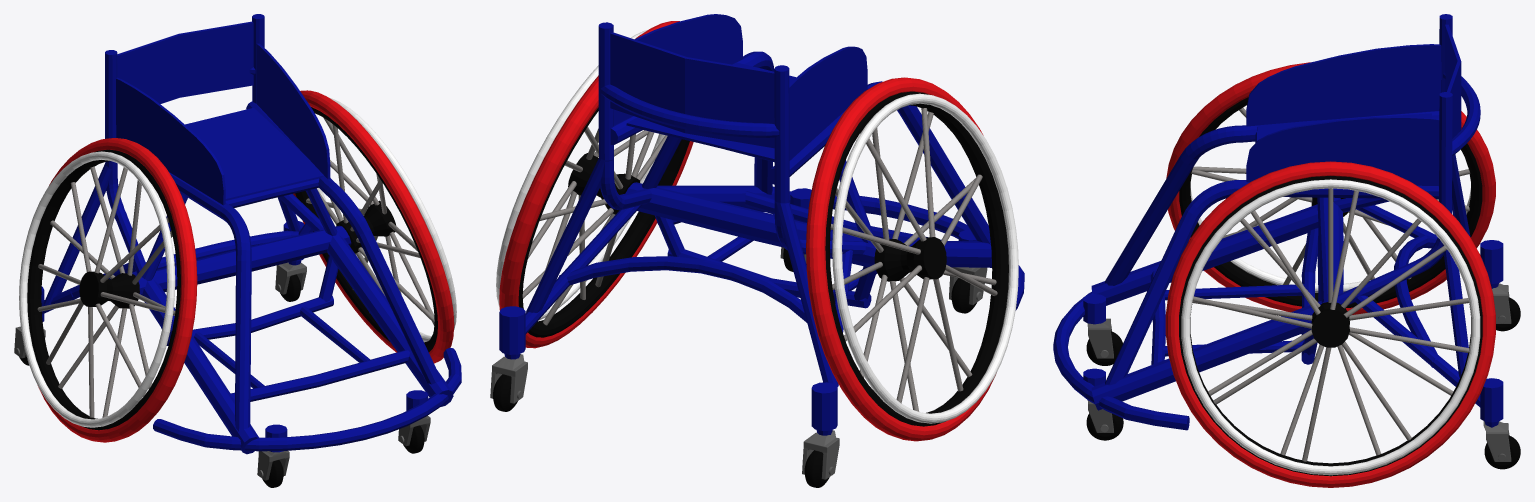
The model's file is wheelchair_3.glb.
The picture shows the model from 3 angles, left to right: view 1: azimuth 30°, elevation 25°; view 2: azimuth 150°, elevation 25°; view 3: azimuth 270°, elevation 25°; orthographic projection. The views are drawn at different scales.
Visible parts, largest first — view 1: Frame, Wheels, R_Front_Wheel, R_Rear_Wheel; view 2: Frame, Wheels, R_Rear_Wheel, R_Front_Wheel; view 3: Frame, Wheels, R_Rear_Wheel, R_Front_Wheel.
Boxes of the visible parts, bbox=[...] form: Frame: bbox=[41, 14, 461, 454]; Wheels: bbox=[19, 90, 456, 442]; R_Front_Wheel: bbox=[257, 415, 430, 487]; R_Rear_Wheel: bbox=[14, 262, 306, 365]; Frame: bbox=[499, 14, 1024, 435]; Wheels: bbox=[496, 21, 1018, 441]; R_Rear_Wheel: bbox=[490, 354, 839, 487]; R_Front_Wheel: bbox=[780, 247, 987, 313]; Frame: bbox=[1053, 14, 1503, 430]; Wheels: bbox=[1165, 62, 1495, 487]; R_Rear_Wheel: bbox=[1483, 283, 1520, 469]; R_Front_Wheel: bbox=[1086, 318, 1123, 440].
Size of the model in its own units: 0.7913 by 0.6877 by 0.841.
